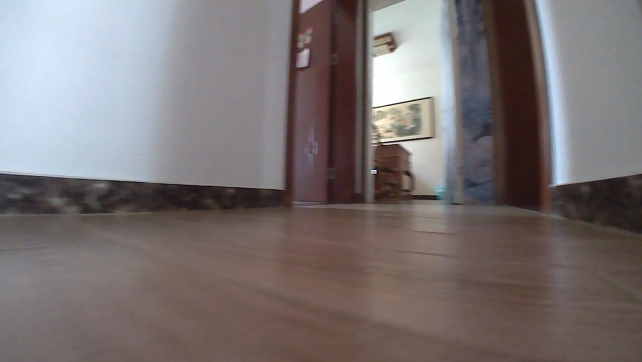door_anno: (288, 0, 345, 202)
